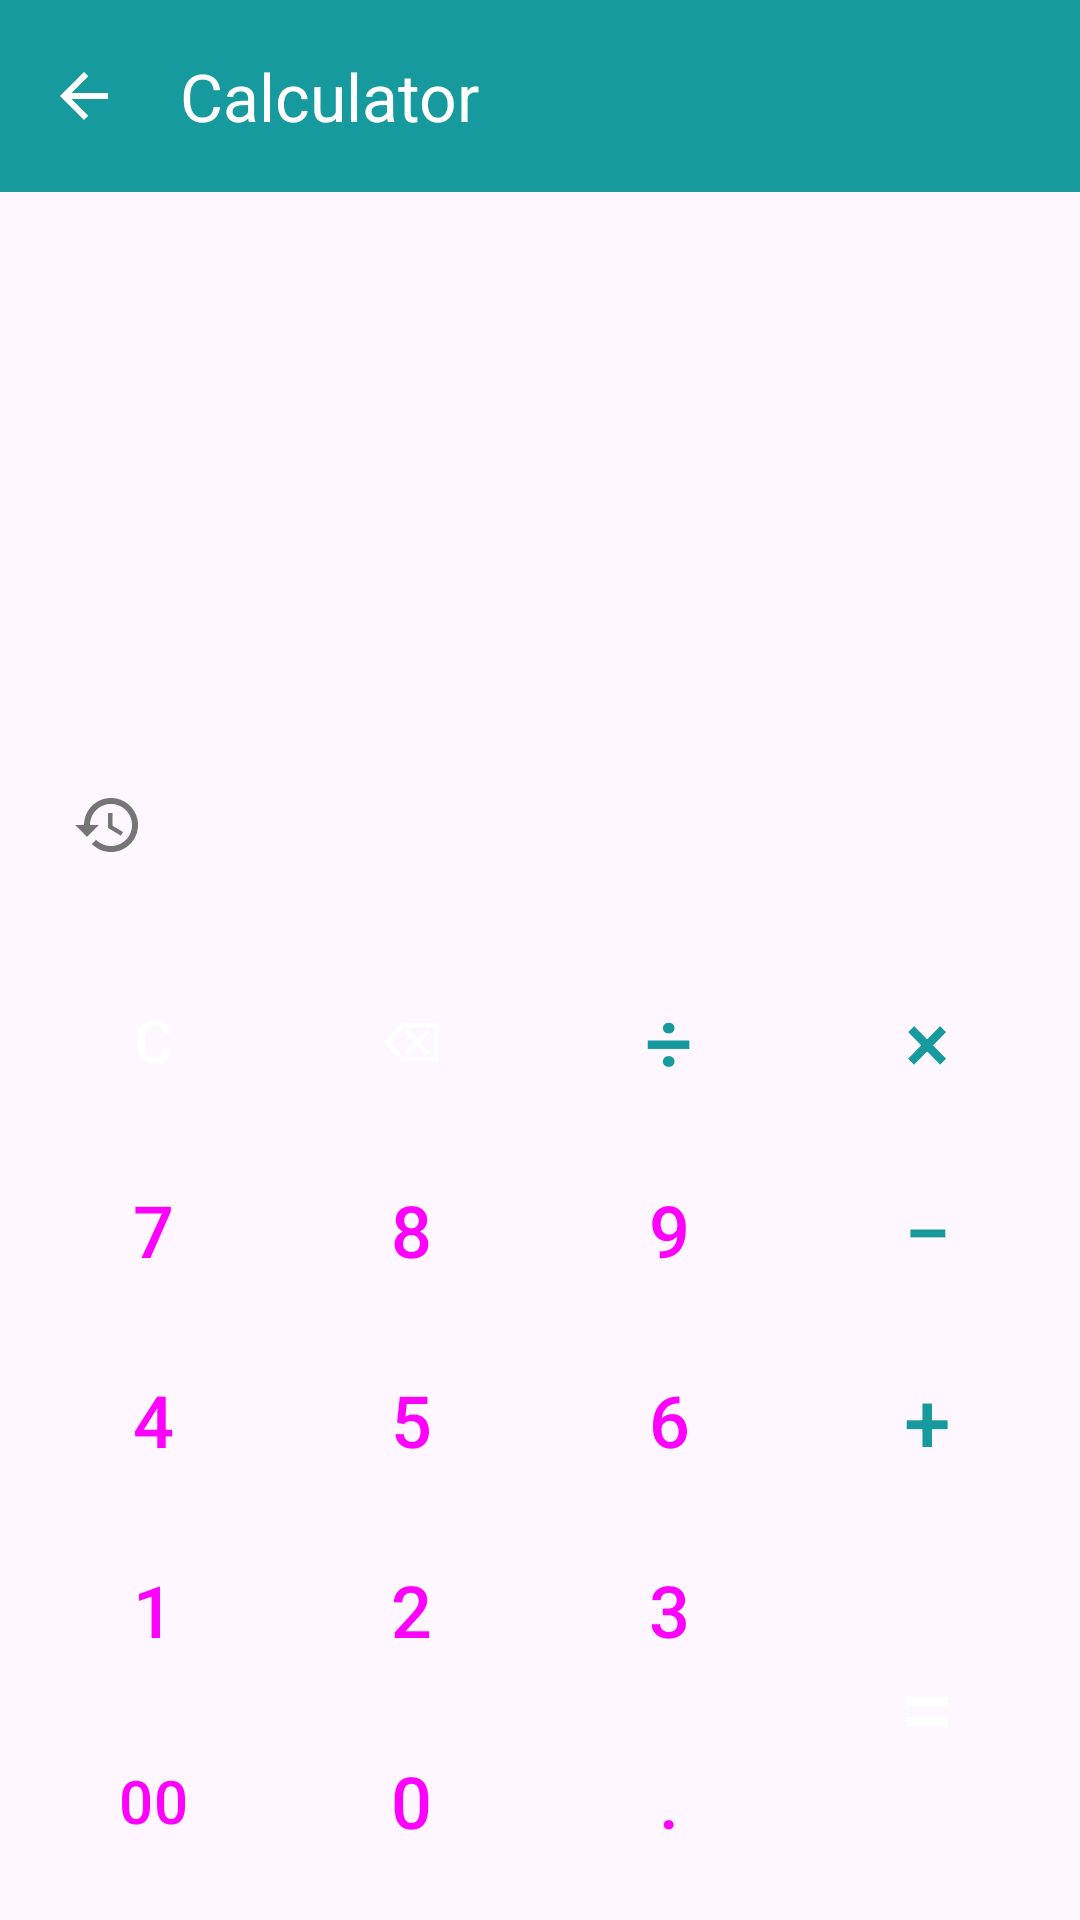

Where to tap for icons on this 1080 x 1920 app screen, as point (x, y):
History: point (106, 825)
